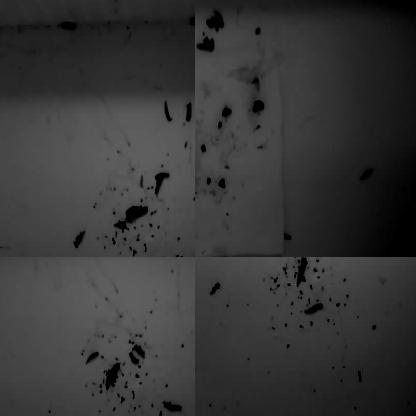PtecticusTenebrifer: (126, 206, 149, 224), (295, 257, 307, 287), (106, 365, 118, 389), (163, 398, 182, 413), (74, 230, 86, 250), (85, 350, 99, 365), (304, 304, 323, 315), (215, 9, 225, 29), (60, 20, 78, 31), (361, 168, 375, 182), (164, 100, 172, 122), (212, 16, 222, 33), (186, 101, 193, 123), (197, 42, 212, 52), (210, 282, 219, 298), (155, 172, 169, 180), (266, 257, 282, 264), (275, 257, 292, 263), (334, 257, 352, 262), (55, 257, 72, 262), (141, 257, 153, 264), (188, 16, 195, 26), (341, 257, 357, 261), (0, 257, 7, 266), (188, 257, 195, 264), (195, 257, 201, 262)
